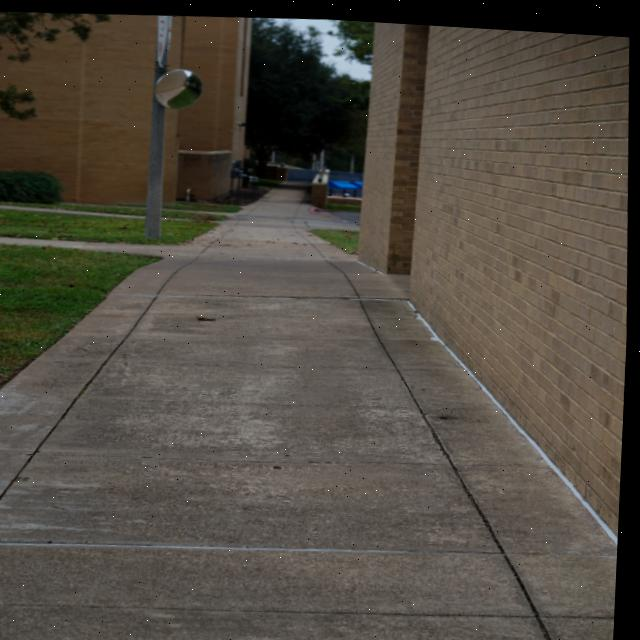Sidewalk: (0, 178, 623, 640), (0, 204, 143, 218)
